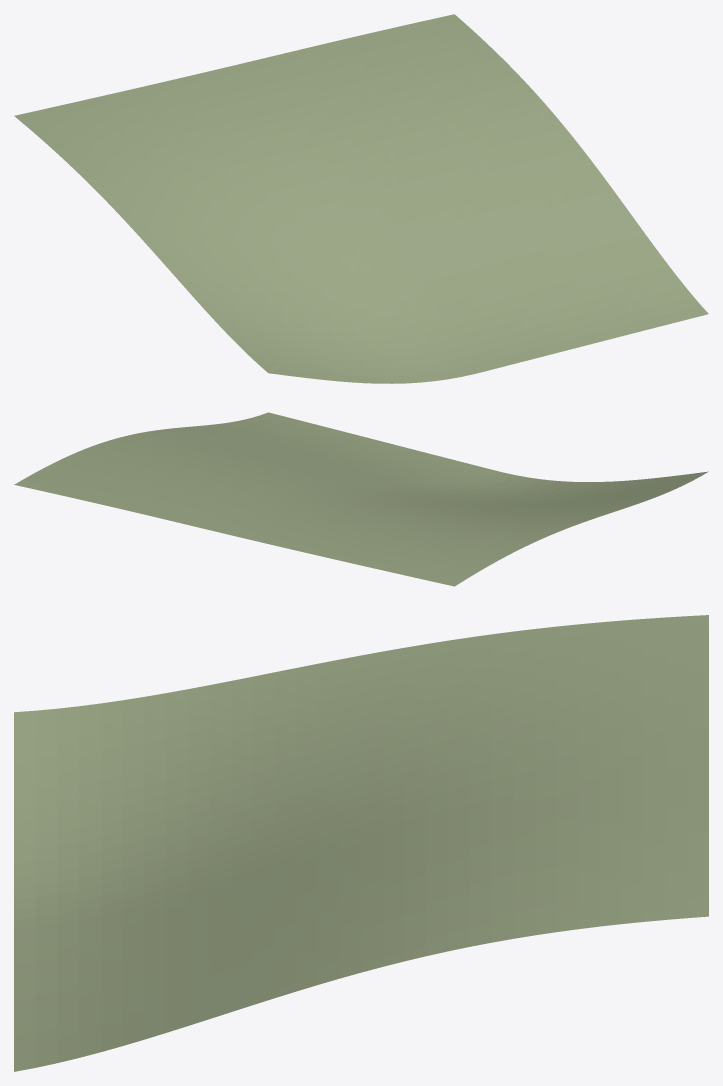
The model's file is expanse-0-4.glb.
3 views of the same model, one above another, from view 1: azimuth 30°, elevation 25°; view 2: azimuth 150°, elevation 25°; view 3: azimuth 270°, elevation 25° (orthographic). The views are drawn at different scales.
Parts seen in each view (by area): view 1: expanse-0-4; view 2: expanse-0-4; view 3: expanse-0-4.
Boxes of the visible parts, x1,y1,x2,y2 form: expanse-0-4: [14, 14, 708, 383]; expanse-0-4: [14, 412, 708, 586]; expanse-0-4: [14, 615, 708, 1071].
Size of the model in its own units: 256 by 67.9 by 256.
